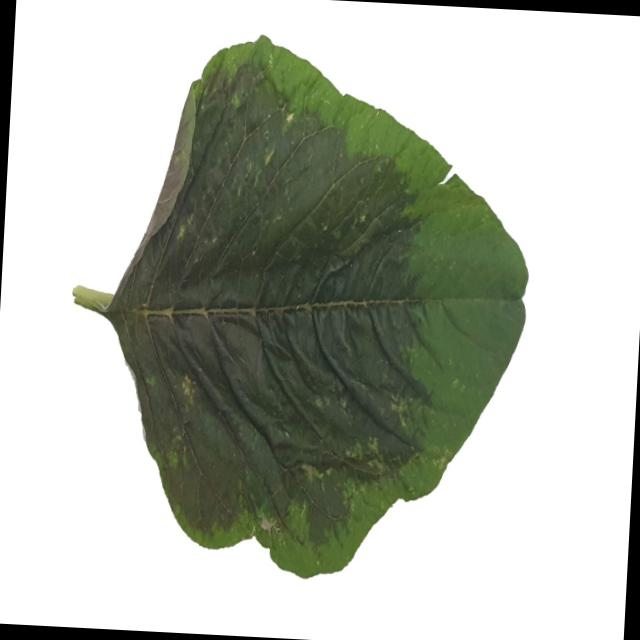Medicinal-Arive Dantu: (60, 22, 541, 588)
